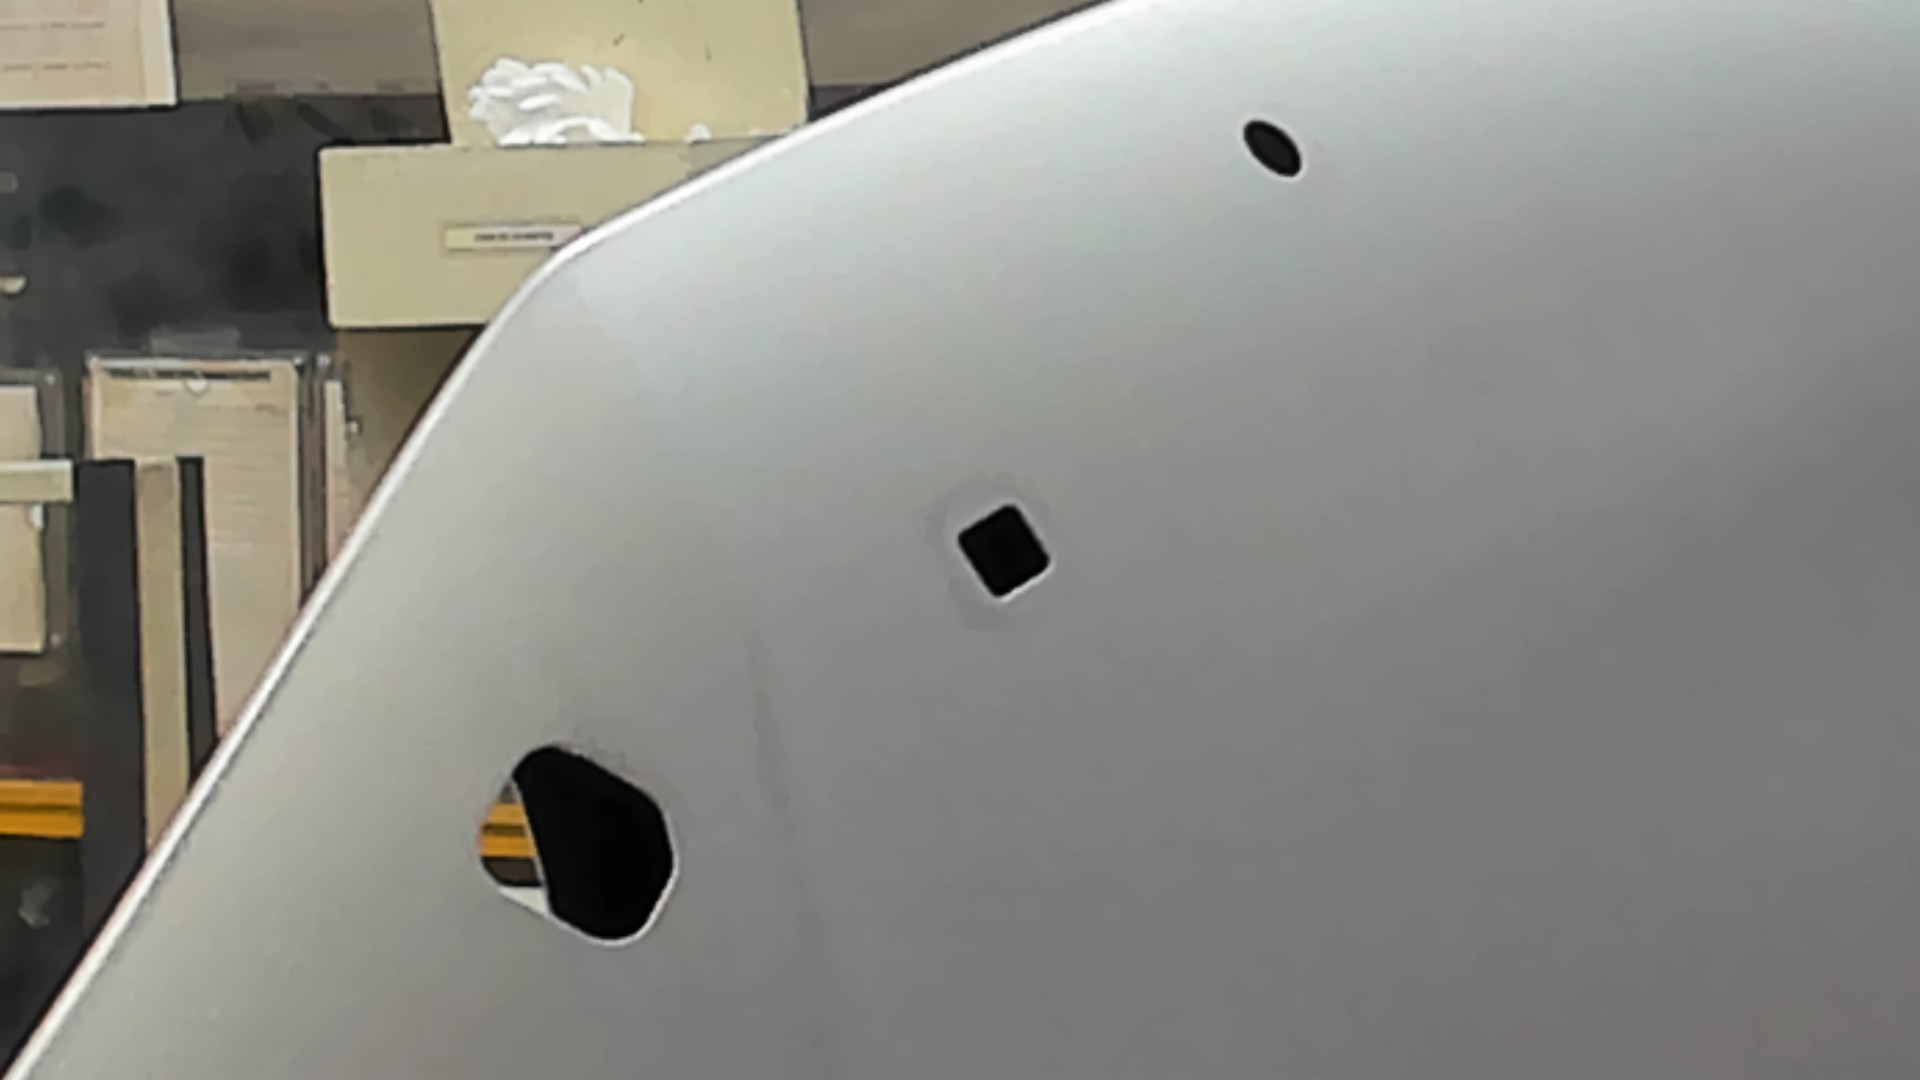Agujero: (953, 501, 1054, 601), (1242, 119, 1304, 179)
Agujerote: (473, 742, 680, 947)
